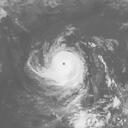cyclone: (42, 48, 86, 90)
